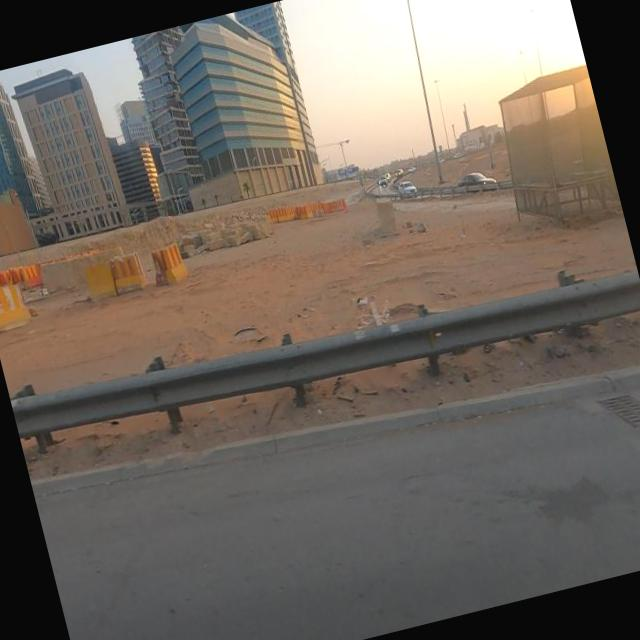debris: (308, 236, 437, 382)
